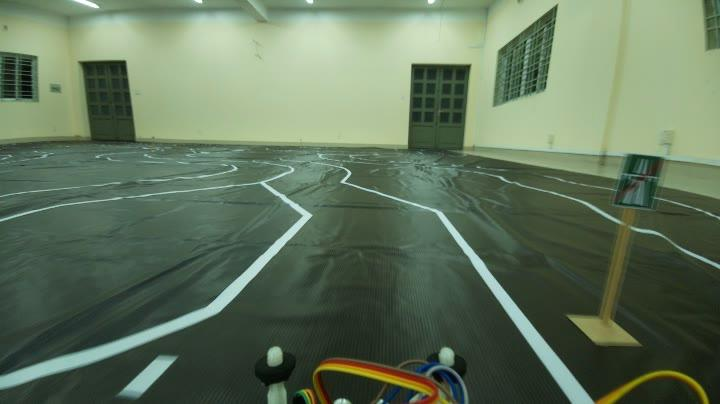highway_exit: (608, 145, 664, 216)
